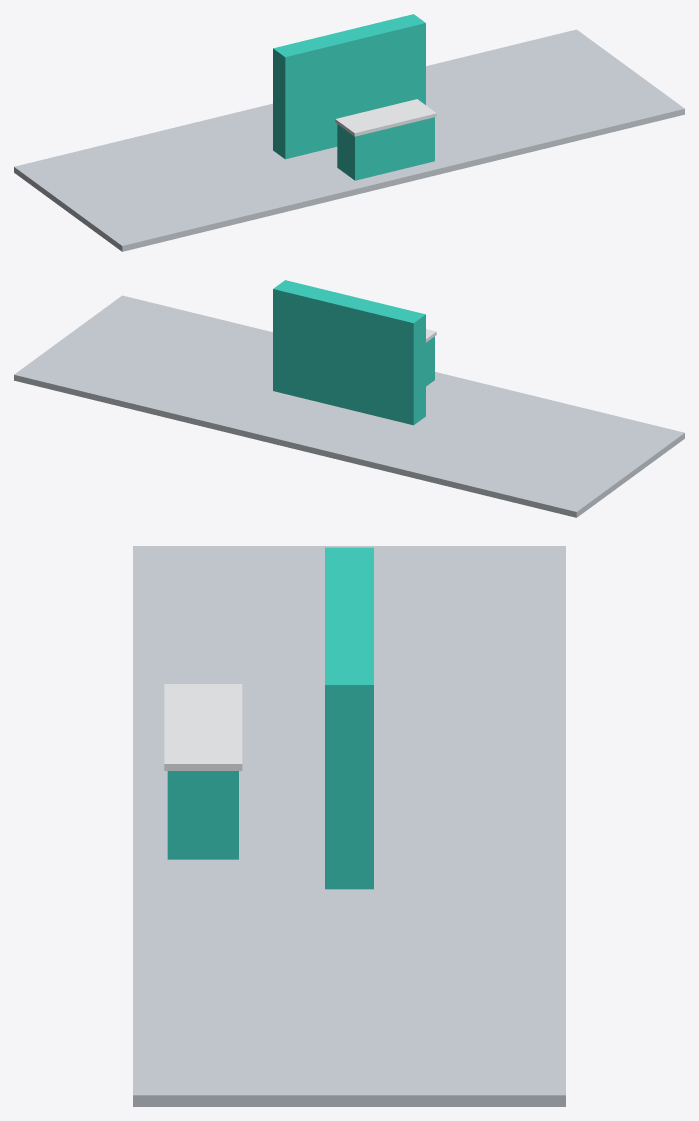
3 views of the same model, one above another, from view 1: azimuth 30°, elevation 25°; view 2: azimuth 150°, elevation 25°; view 3: azimuth 270°, elevation 25° (orthographic). The views are drawn at different scales.
Parts seen in each view (by area): view 1: Exhibition Booth Concept; view 2: Exhibition Booth Concept; view 3: Exhibition Booth Concept.
Boxes of the visible parts, bbox=[...] form: Exhibition Booth Concept: bbox=[14, 14, 684, 251]; Exhibition Booth Concept: bbox=[14, 280, 684, 517]; Exhibition Booth Concept: bbox=[133, 546, 565, 1106].
Bounding box in the file's own units: 12 × 2.2 × 4.
